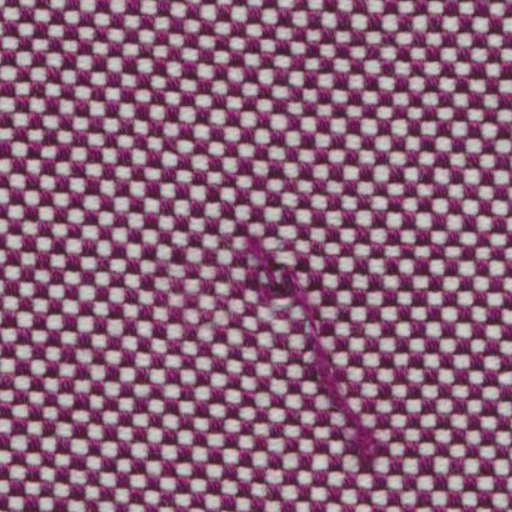DuanSha: (212, 207, 396, 466)
